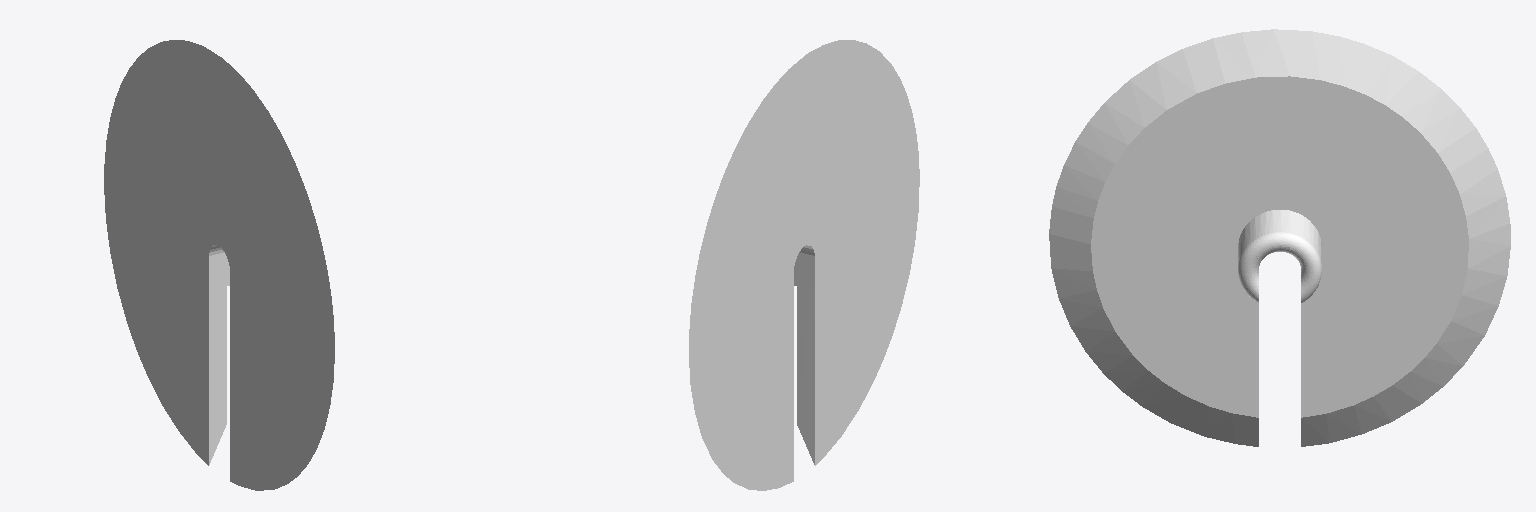
Rendered from Radkappe.obj.
3 views of the same model, side by side, from view 1: azimuth 30°, elevation 25°; view 2: azimuth 150°, elevation 25°; view 3: azimuth 270°, elevation 25° (orthographic).
Visible parts, largest first — view 1: Baugruppe_1.4.004; view 2: Baugruppe_1.4.004; view 3: Baugruppe_1.4.004.
Part boxes in pixels (x1,y1,x2,y2): Baugruppe_1.4.004: (104, 40, 334, 490); Baugruppe_1.4.004: (689, 40, 919, 490); Baugruppe_1.4.004: (1049, 29, 1510, 446).
Bounding box in the file's own units: 0.0534 × 0.2932 × 0.2938.